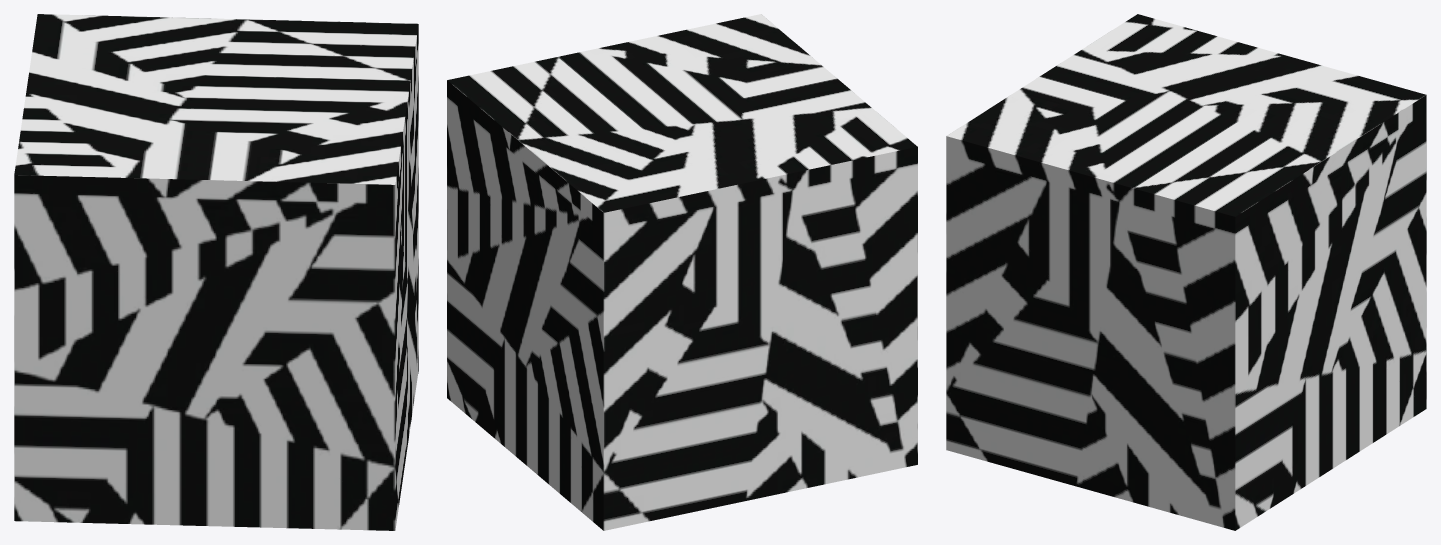
The picture shows the model from 3 angles, left to right: view 1: azimuth 30°, elevation 25°; view 2: azimuth 150°, elevation 25°; view 3: azimuth 270°, elevation 25°; orthographic projection. The views are drawn at different scales.
Visible parts, largest first — view 1: Cube.020; view 2: Cube.020; view 3: Cube.020.
Boxes of the visible parts, left/top/right/bottom form: Cube.020: left=14, top=14, right=418, bottom=530; Cube.020: left=447, top=14, right=917, bottom=530; Cube.020: left=946, top=14, right=1426, bottom=530.
Bounding box in the file's own units: 2.77 × 2 × 2.77.
1 material, 1 textured.
